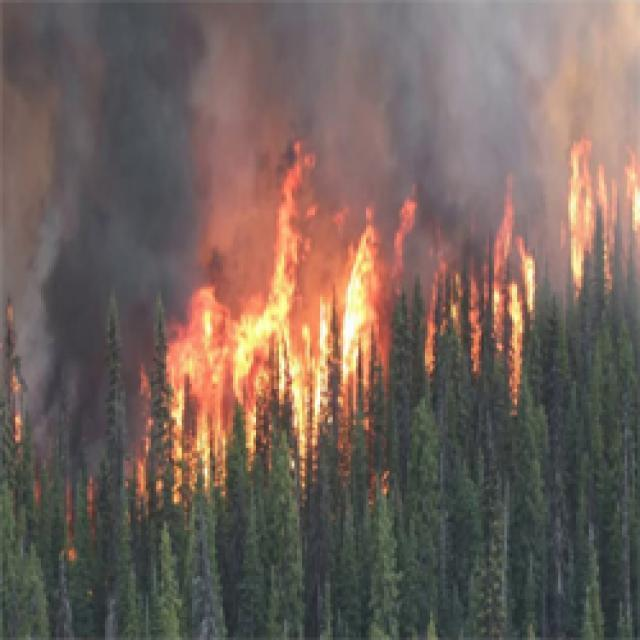Fire: (148, 136, 420, 488), (430, 188, 541, 399), (567, 147, 640, 284)
Smoke: (145, 0, 640, 140), (0, 0, 146, 474), (148, 141, 272, 279), (323, 137, 547, 180)
